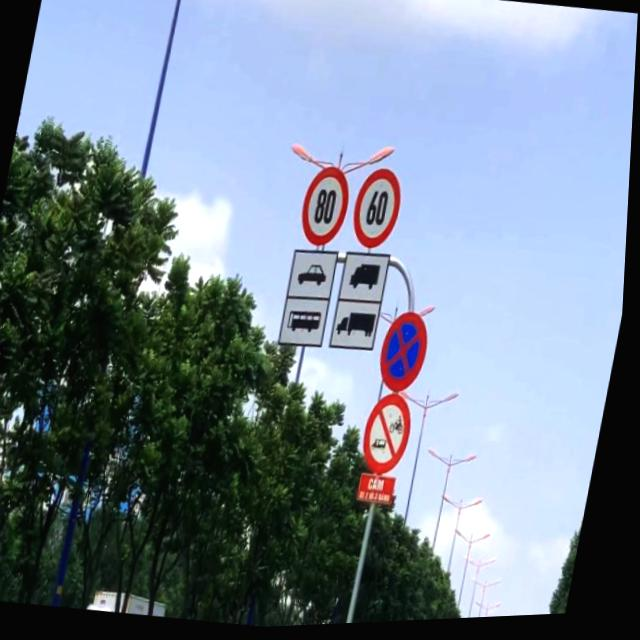Cam dung xe va do xe: (377, 310, 439, 401)
Toc do toi da cho phep: (296, 164, 357, 257), (351, 170, 409, 258)
